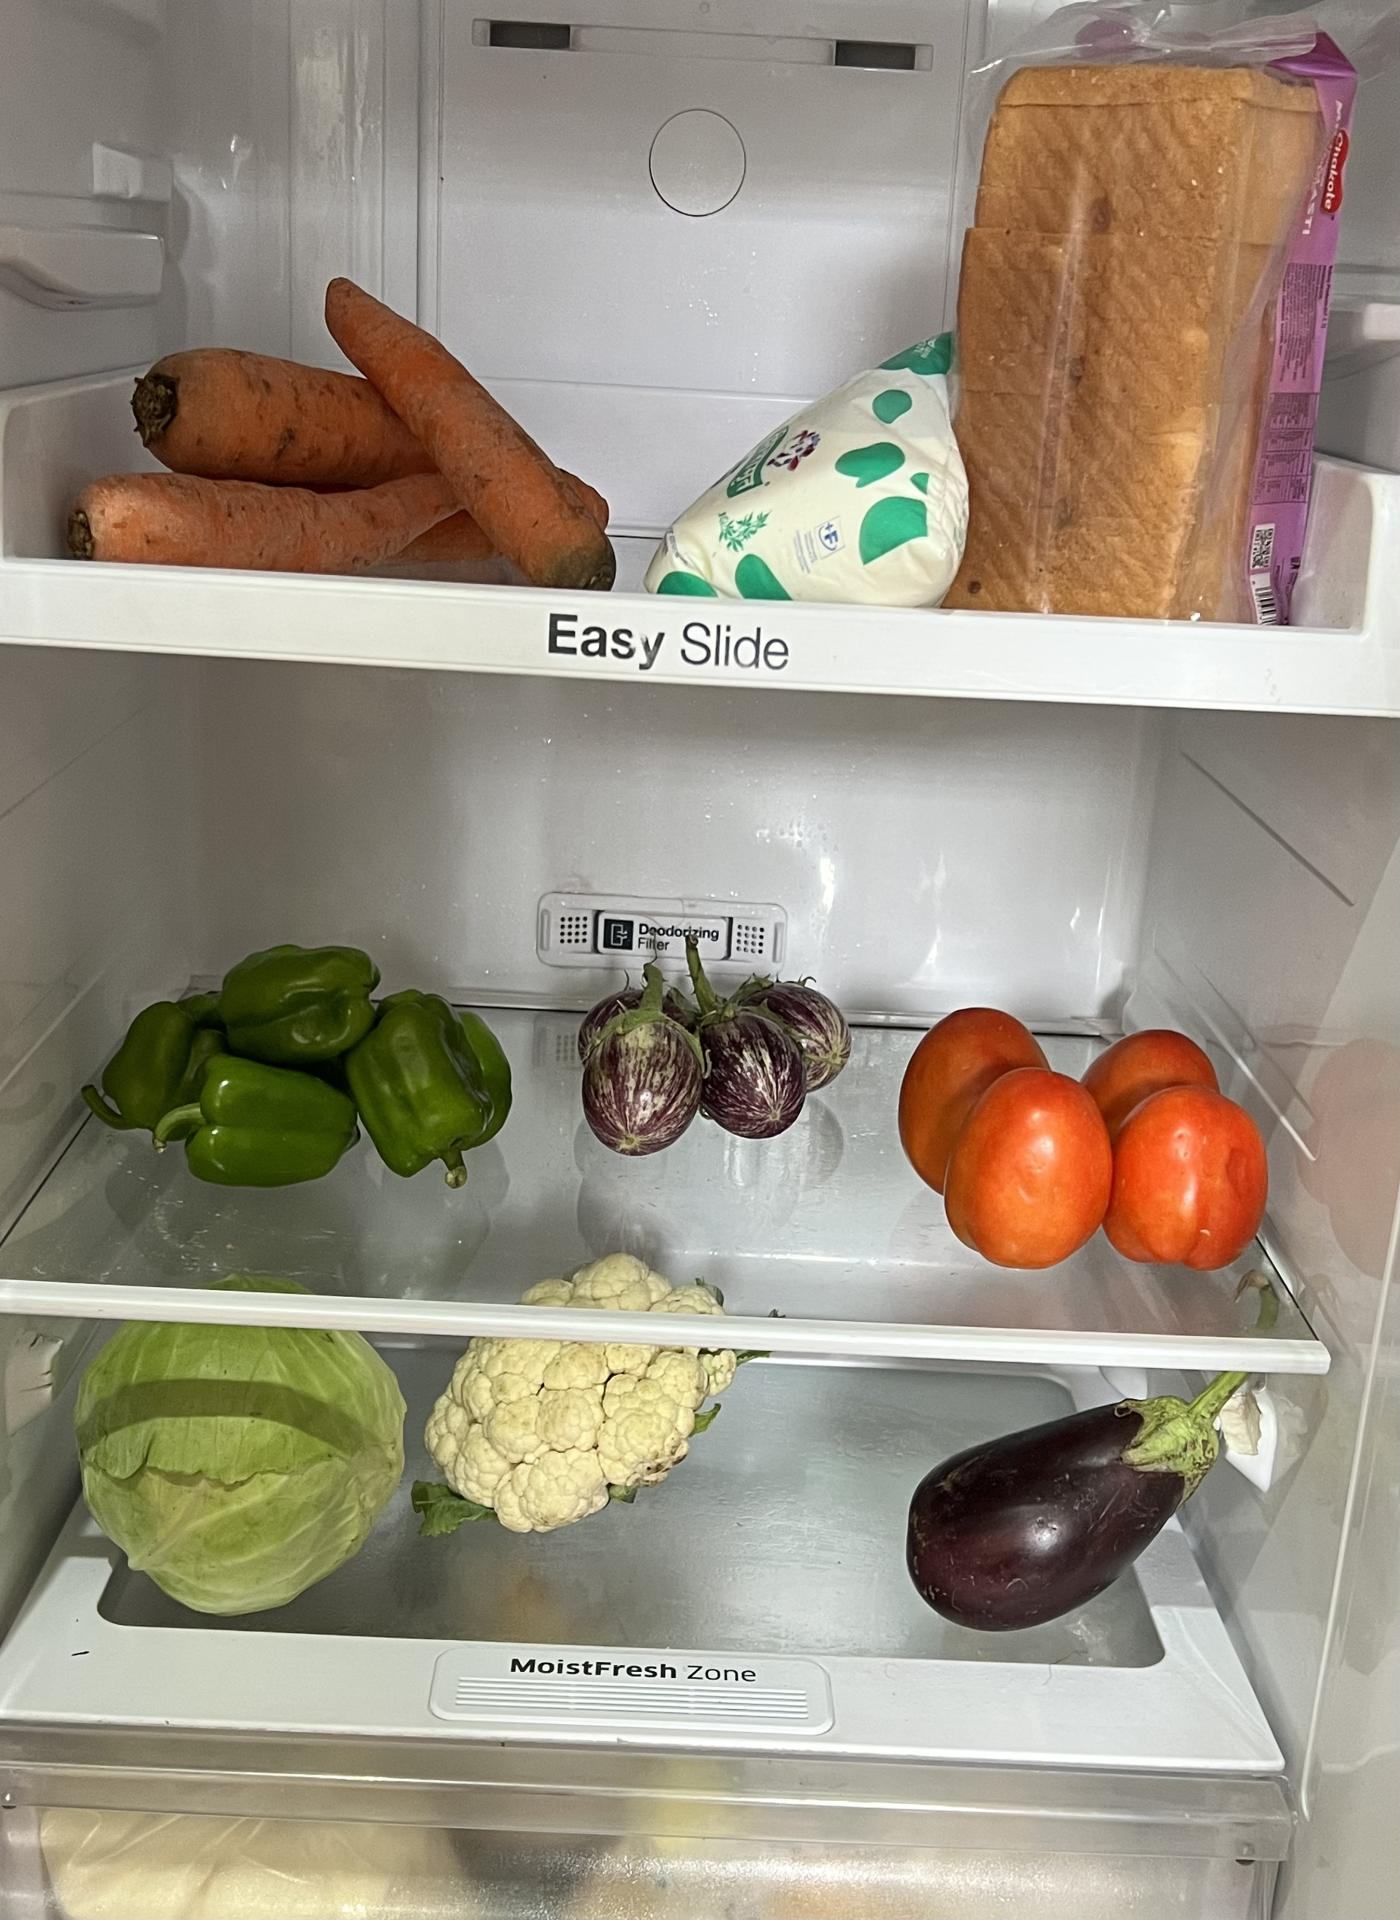bread: (962, 43, 1346, 614)
cabbage: (72, 1318, 401, 1598)
capsicum: (97, 936, 513, 1187)
carrots: (75, 323, 617, 575)
cauliflower: (432, 1249, 729, 1526)
milk: (653, 346, 962, 599)
tomato: (904, 999, 1264, 1273)
